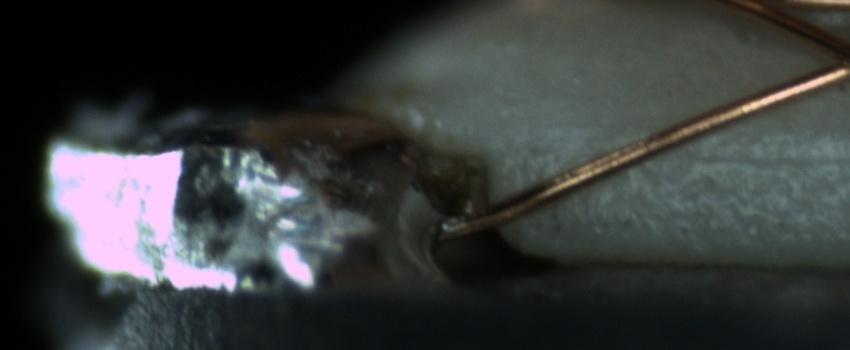CL: (801, 27, 850, 90)
DL: (611, 119, 845, 190)
